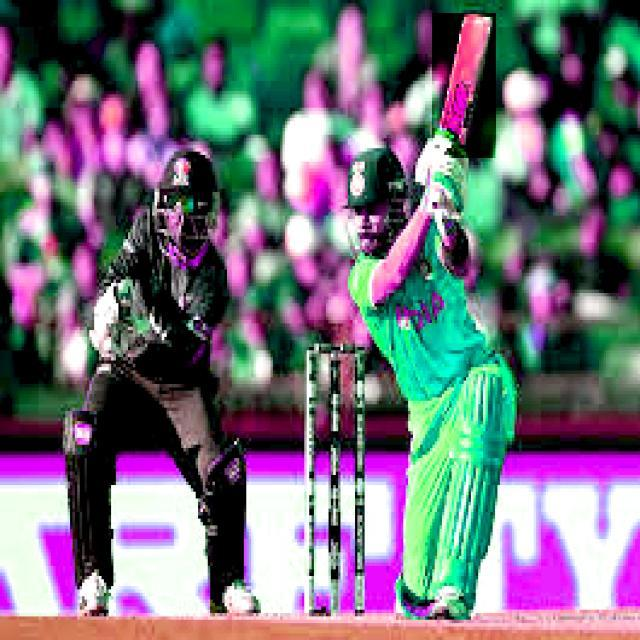bat: (436, 13, 498, 160)
